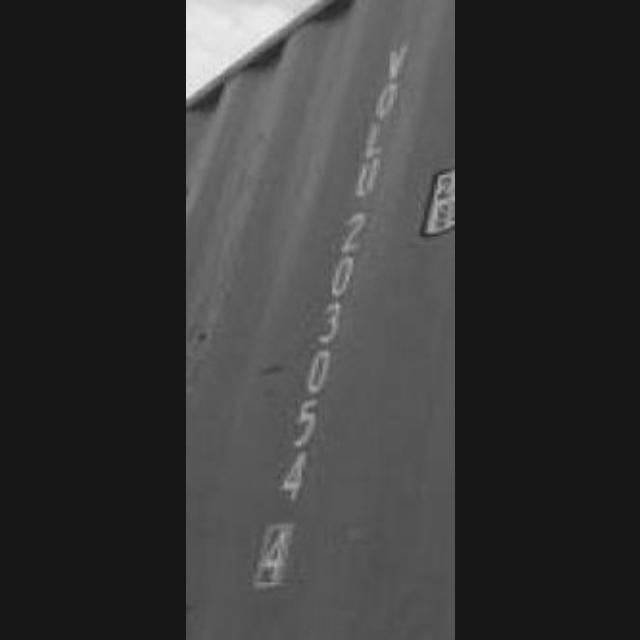0: (326, 252, 360, 300), (302, 346, 336, 394)
2: (334, 208, 374, 256)
3: (314, 296, 348, 350)
4: (253, 520, 295, 590), (278, 449, 310, 511)
5: (288, 392, 328, 450)
l: (358, 116, 396, 158)
o: (371, 82, 404, 122)
u: (354, 154, 384, 202)
v: (380, 40, 412, 84)
